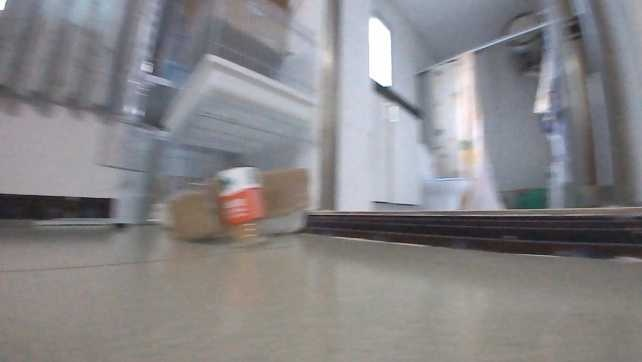door_sill: (312, 211, 640, 260)
toilet: (422, 170, 467, 211)
